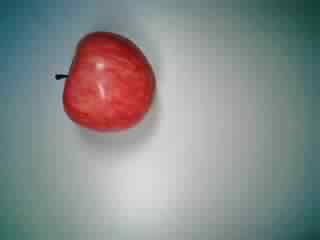apple: (53, 31, 160, 134)
